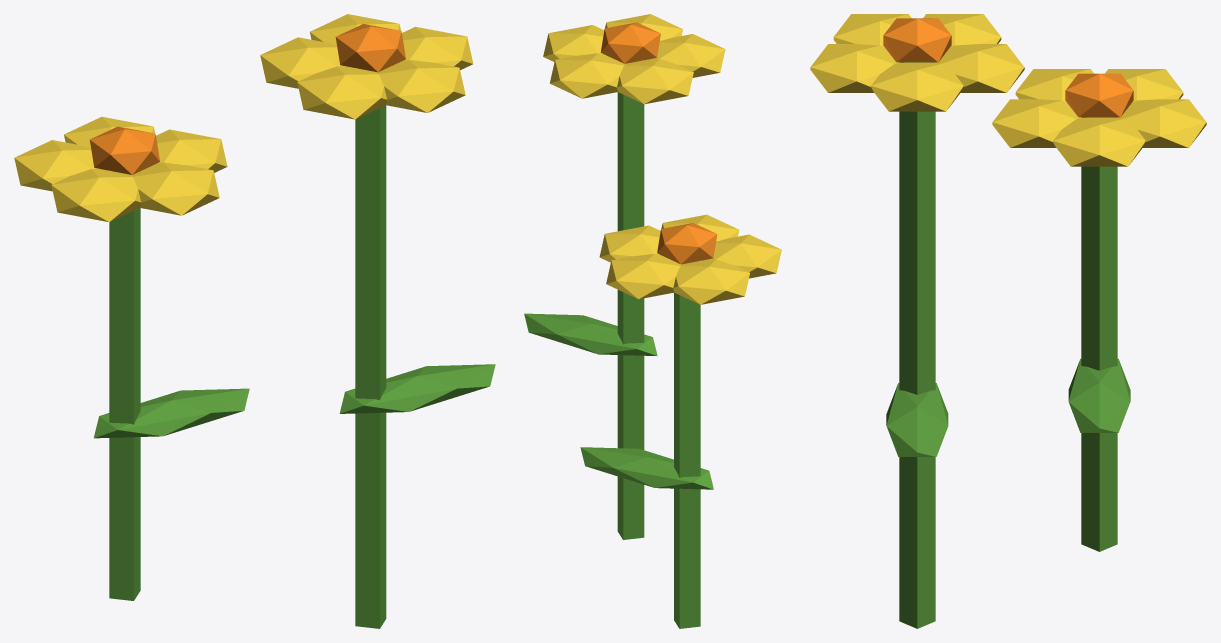
Rendered from nature2_flower_yellow.glb.
The picture shows the model from 3 angles, left to right: view 1: azimuth 30°, elevation 25°; view 2: azimuth 150°, elevation 25°; view 3: azimuth 270°, elevation 25°; orthographic projection. The views are drawn at different scales.
Parts seen in each view (by area): view 1: flower_yellow; view 2: flower_yellow; view 3: flower_yellow.
Part boxes in pixels (left/top/right/bottom): flower_yellow: left=14, top=14, right=495, bottom=628; flower_yellow: left=524, top=14, right=781, bottom=628; flower_yellow: left=810, top=14, right=1206, bottom=628.
Bounding box in the file's own units: 0.2352 × 0.3652 × 0.2176.
